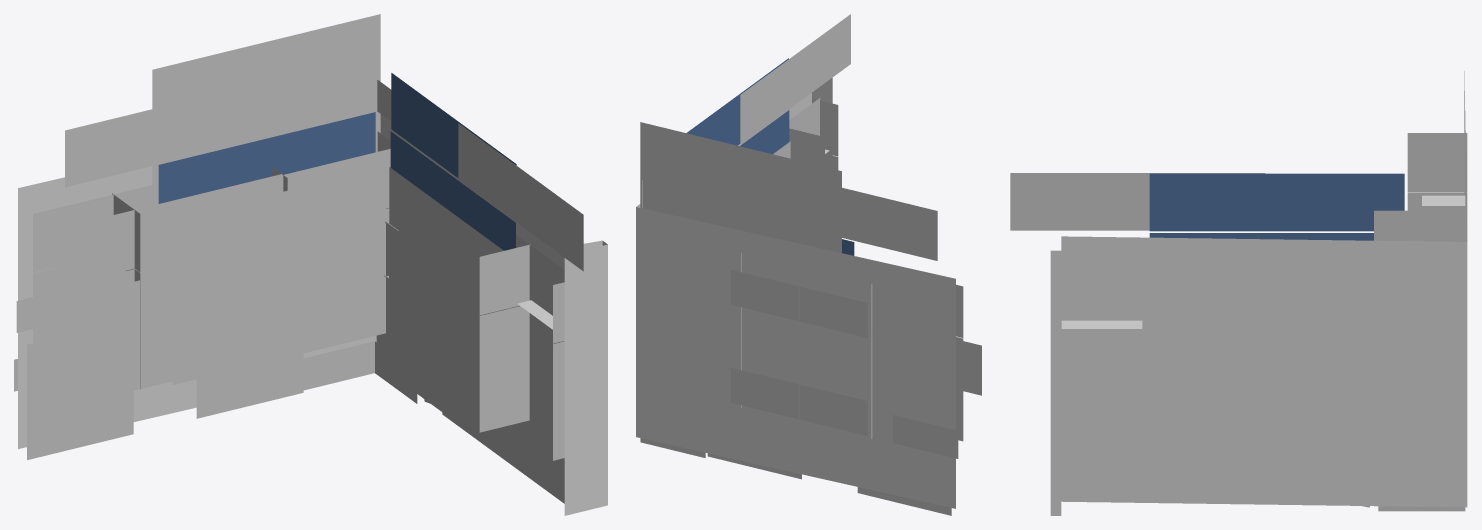
Rendered from city_west11_construction.dae.
The picture shows the model from 3 angles, left to right: view 1: azimuth 30°, elevation 25°; view 2: azimuth 150°, elevation 25°; view 3: azimuth 270°, elevation 25°; orthographic projection. The views are drawn at different scales.
Parts seen in each view (by area): view 1: city_west11_construction_a300, Colmesh-1; view 2: Colmesh-1, city_west11_construction_a300; view 3: Colmesh-1, city_west11_construction_a300.
Part boxes in pixels (bbox=[...]): city_west11_construction_a300: bbox=[14, 14, 583, 503]; Colmesh-1: bbox=[18, 114, 607, 515]; Colmesh-1: bbox=[636, 78, 955, 508]; city_west11_construction_a300: bbox=[640, 14, 981, 515]; Colmesh-1: bbox=[1050, 71, 1467, 515]; city_west11_construction_a300: bbox=[1010, 133, 1467, 511].
Bounding box in the file's own units: 21.04 × 21.04 × 18.6.
